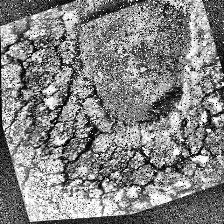pothole: (56, 0, 222, 149)
